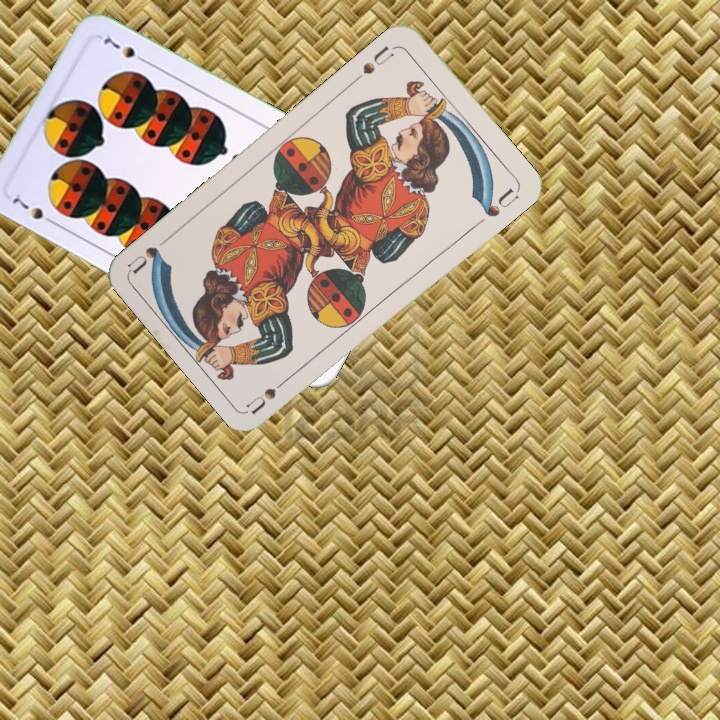S7: (7, 189, 60, 228)
SU: (243, 370, 296, 416), (350, 41, 396, 85)
